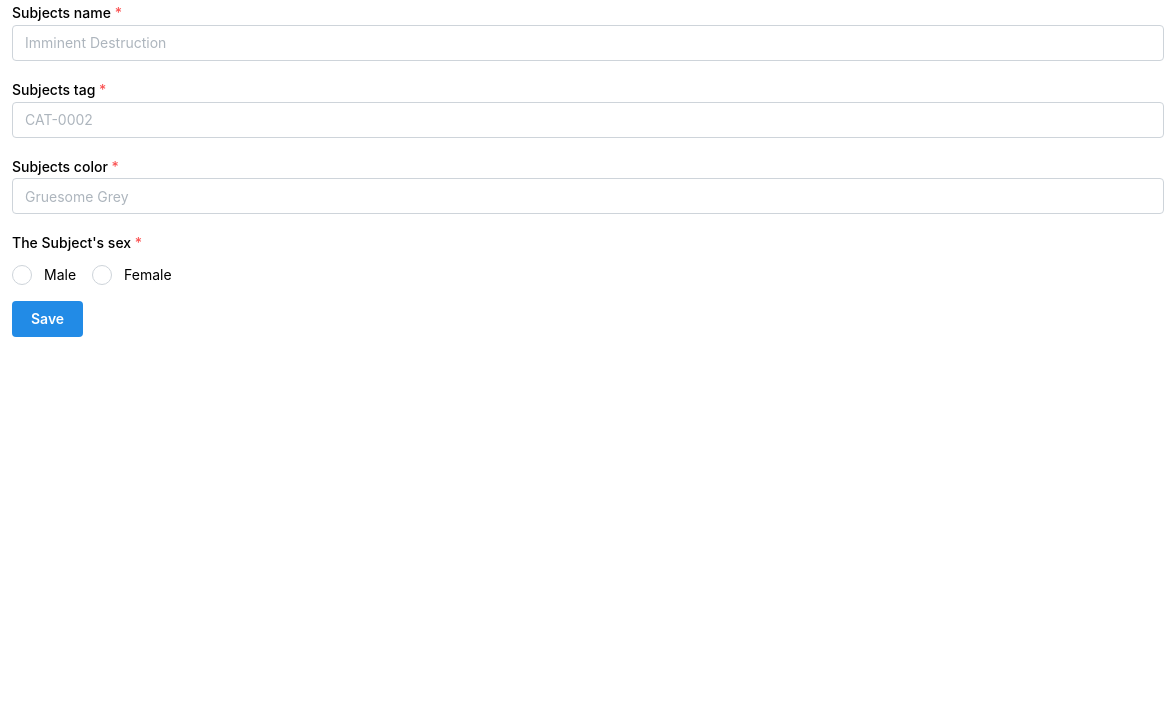
Test: <AddCatForm /> › Successful submissions have a notification
Step 1. Type "Mooney" into the field with id "nameTextInput" → (588, 43), box [12,25,1164,61]
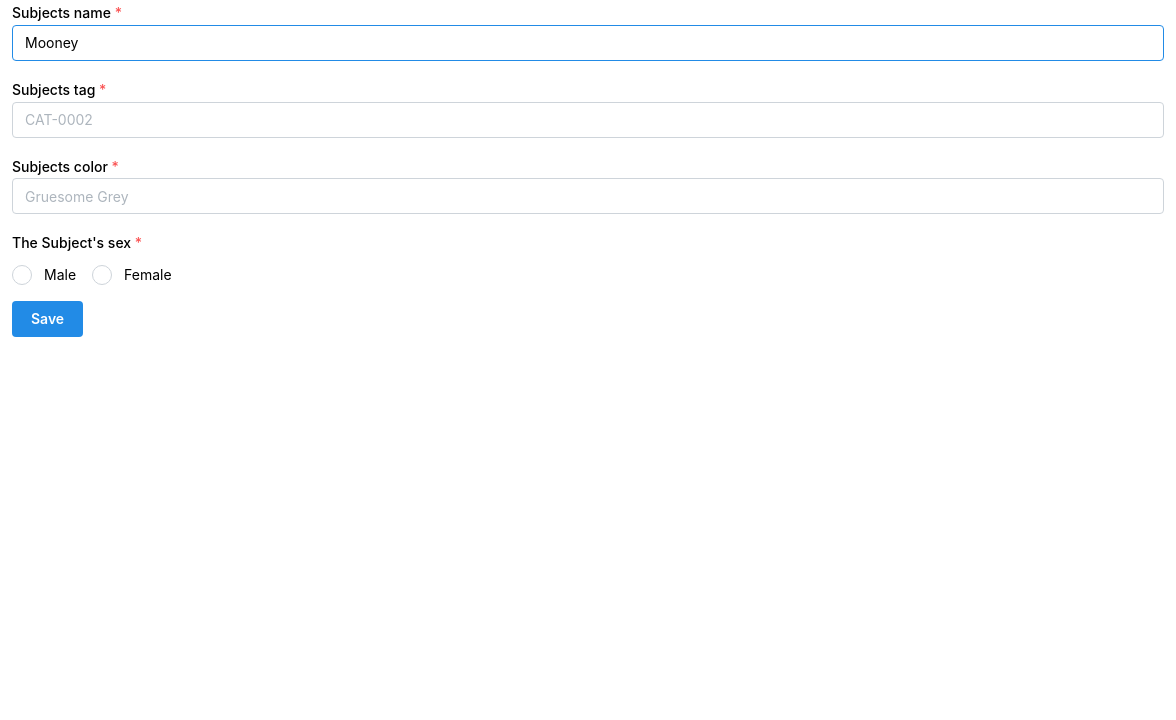
Step 2. Type "TAG-0001" into the field with id "tagTextInput" → (588, 120), box [12,102,1164,138]
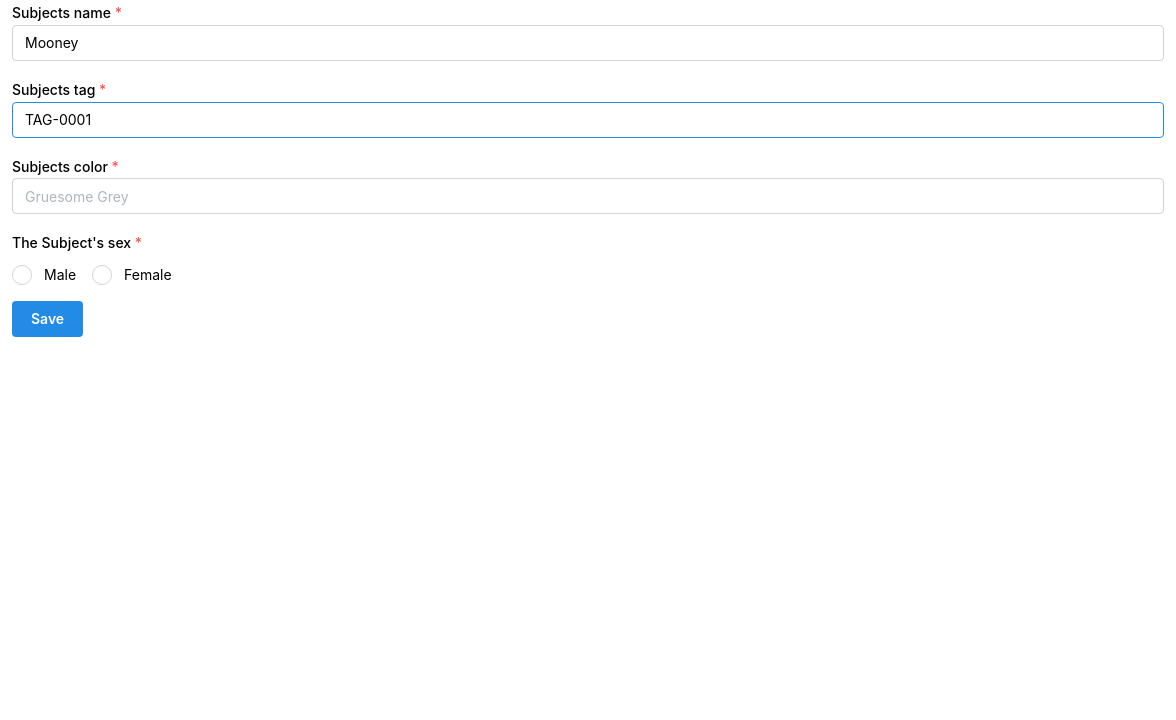
Step 3. Type "White" into the field with id "colorTextInput" → (588, 196), box [12,178,1164,214]
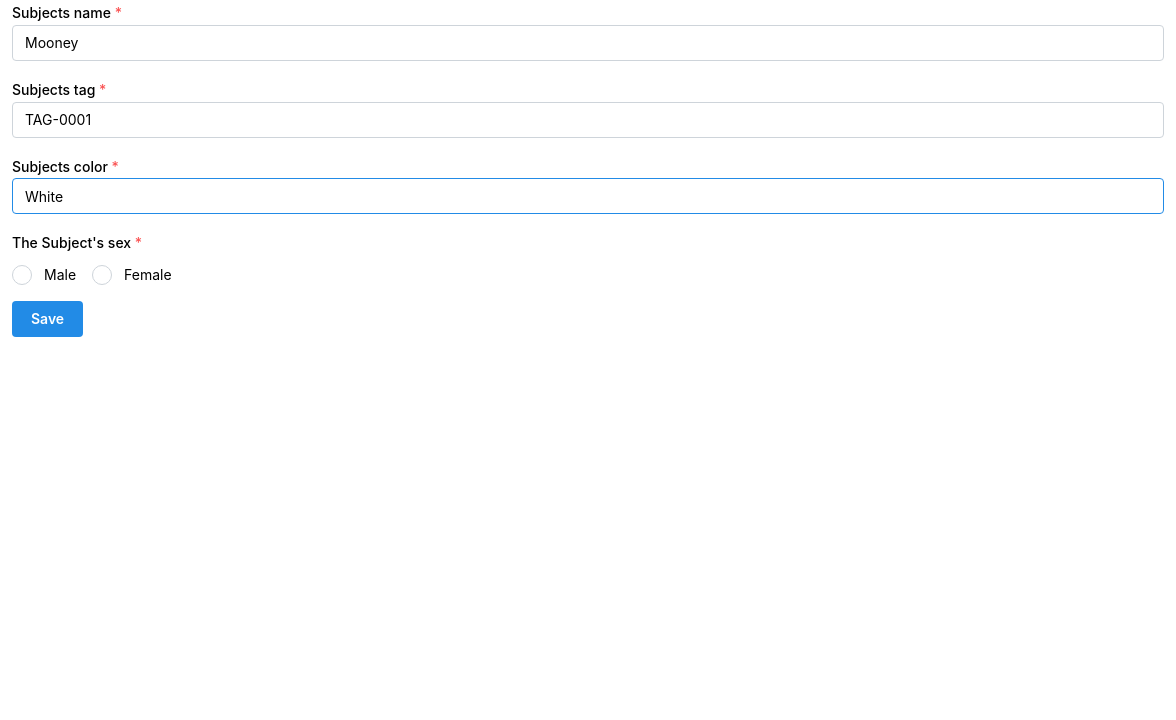
Step 4. Click the radio button labelled "Male" → (22, 275), box [12,265,32,285]
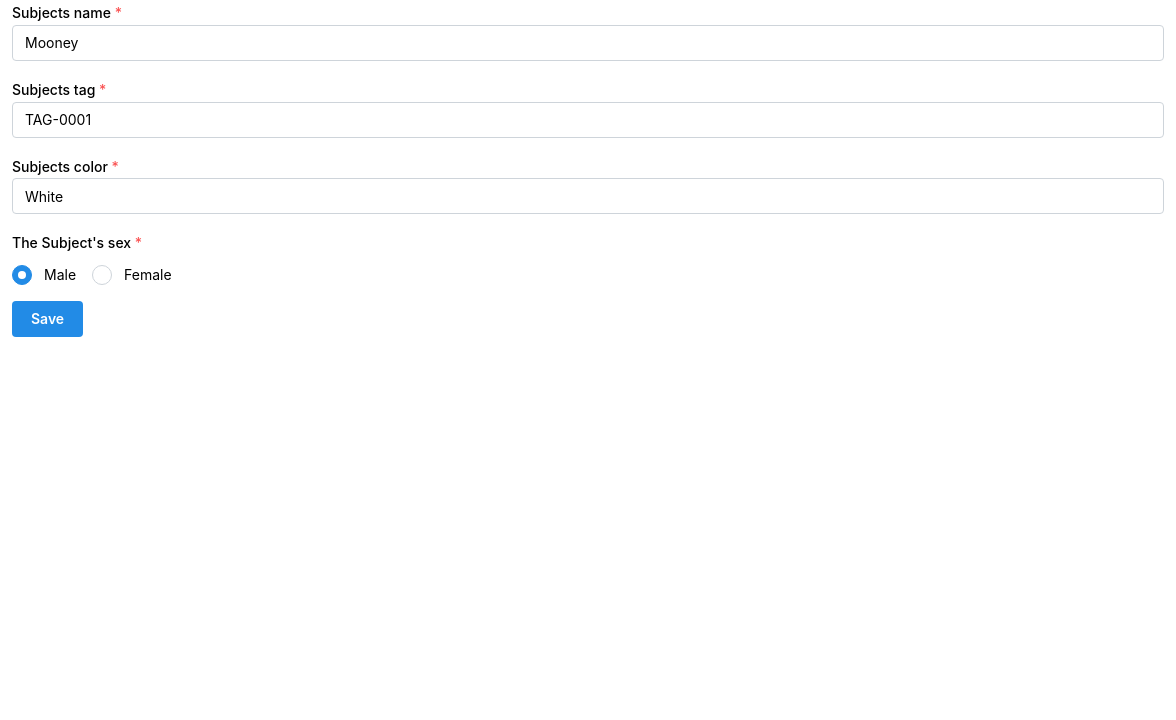
Step 5. Click the button with id "submitButton" → (48, 319), box [12,301,83,337]
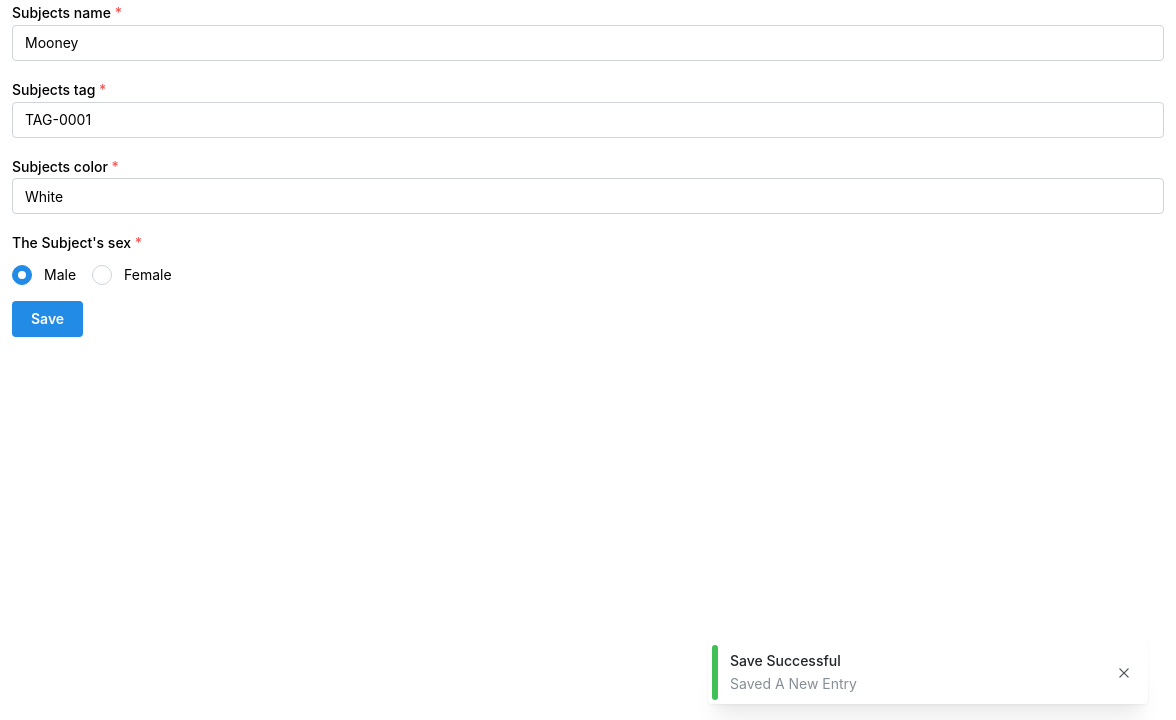
expect the element showing "Save Successful Saved A New Entry" is shown: met, box [730,652,857,692]
